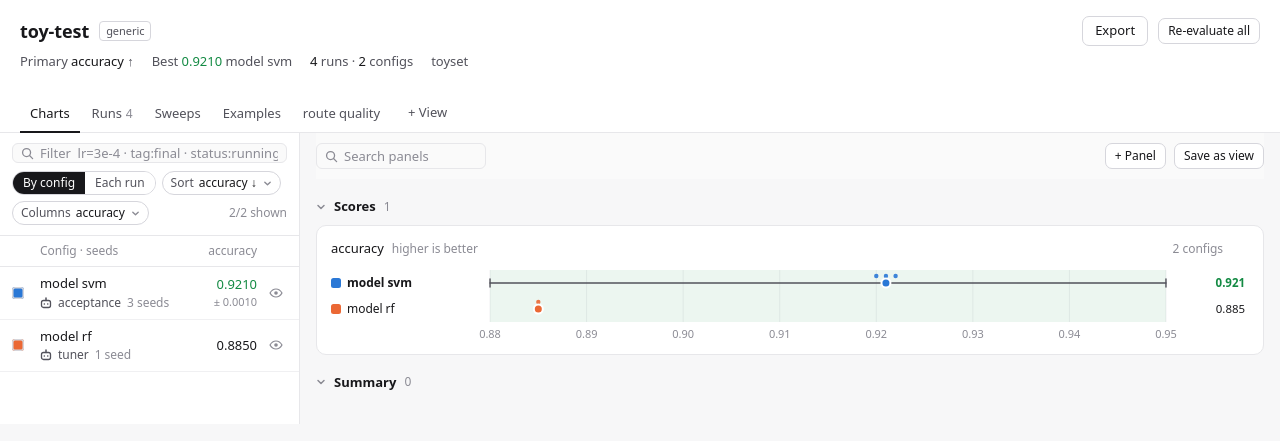
Test: tabs › the Sweeps tab lists the task's sweeps
The image size is (1280, 441).
Expected: the element named "Runs" is shown, [0, 133, 300, 424]
What coordinates should you click on to do the following:
click the tab "Sweeps"
I would click on:
 (178, 112)
Its box is [155, 104, 201, 122].
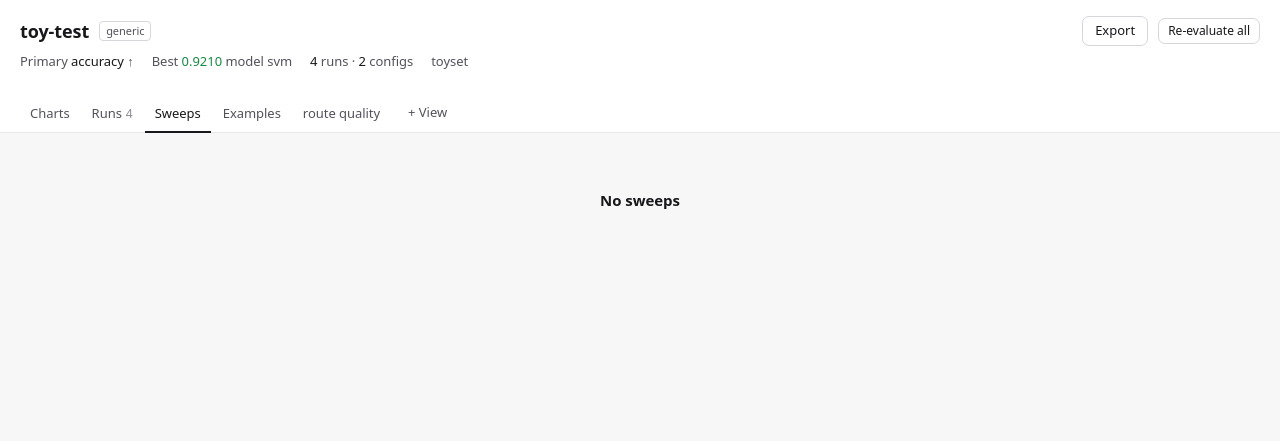
Result: the heading "No sweeps" is shown at [600, 189, 680, 212]
